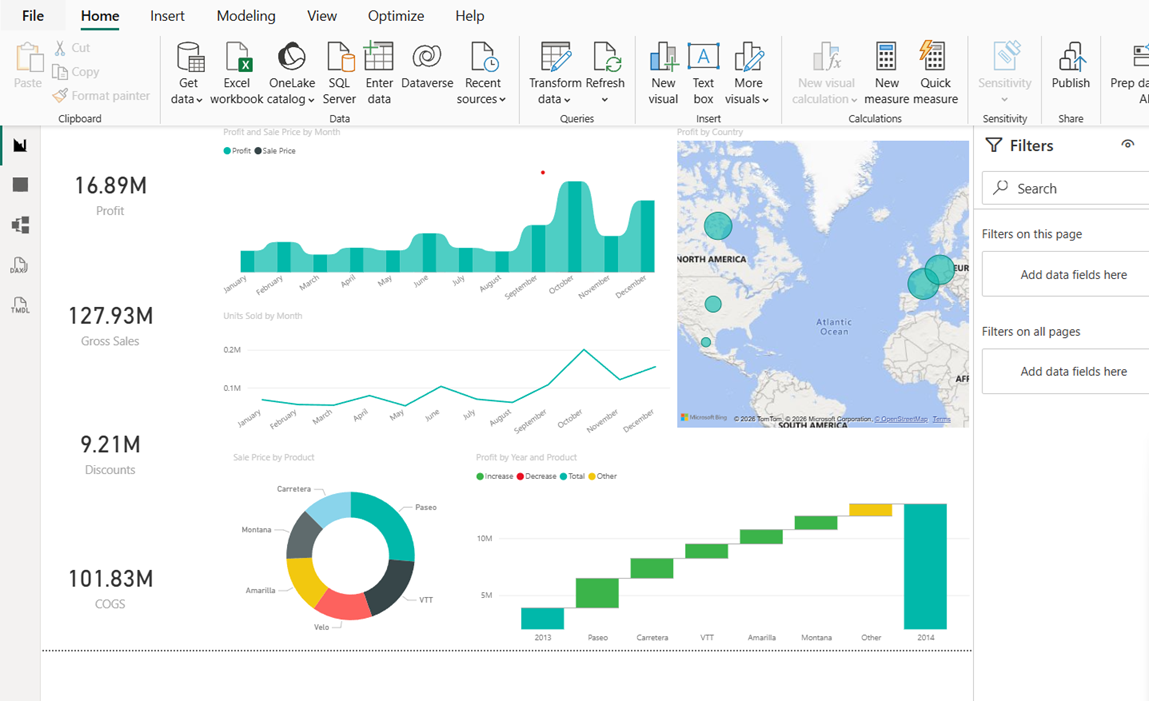

The dashboard page shown, as its layout file describes it:
{"tool":"powerbi","page":{"name":"Page 1","canvas":[1280,720],"ordinal":0},"visuals":[{"type":"map","fields":{"Category":["financials.Country"],"Size":["Sum(financials.Profit)"]},"box":[869.2,0,410.8,420],"z":0},{"type":"lineChart","fields":{"Category":["financials.Date.Variation.Date Hierarchy.Month"],"Y":["Sum(financials.Units Sold)"]},"box":[246.2,252.3,623.1,184.6],"z":1000},{"type":"card","fields":{"Values":["Sum(financials.Profit)"]},"box":[0,0,190.8,180],"z":2000},{"type":"card","fields":{"Values":["Sum(financials.Gross Sales)"]},"box":[0,180,190.8,180],"z":3000},{"type":"card","fields":{"Values":["Sum(financials.Discounts)"]},"box":[0,360,190.8,173.8],"z":4000},{"type":"card","fields":{"Values":["f_COGS"]},"box":[0,540,190.8,180],"z":5000},{"type":"ribbonChart","fields":{"Y":["Sum(financials.Profit)","Sum(financials.Sale Price)"],"Category":["financials.Date.Variation.Date Hierarchy.Month"]},"box":[246.2,0,623.1,252.3],"z":6000},{"type":"donutChart","fields":{"Category":["financials.Product"],"Y":["Sum(financials.Sale Price)"]},"box":[260,447.7,332.3,272.3],"z":7000},{"type":"waterfallChart","fields":{"Y":["Sum(financials.Profit)"],"Breakdown":["financials.Product"],"Category":["financials.Date.Variation.Date Hierarchy.Year"]},"box":[592.3,447.7,687.7,272.3],"z":8000}]}

Visuals, with their boxes on the page's 1280x720 design canvas (x1, y1, x2, y2). These are canvas units, not pixel positions in the 1152x701 screenshot, which may show the page scaled, cropped or inside an application window:
map - financials.Country x Sum(financials.Profit): <box>869,0,1280,420</box>
lineChart - financials.Date.Variation.Date Hierarchy.Month x Sum(financials.Units Sold): <box>246,252,869,437</box>
card - Sum(financials.Profit): <box>0,0,191,180</box>
card - Sum(financials.Gross Sales): <box>0,180,191,360</box>
card - Sum(financials.Discounts): <box>0,360,191,534</box>
card - f_COGS: <box>0,540,191,720</box>
ribbonChart - Sum(financials.Profit) x Sum(financials.Sale Price): <box>246,0,869,252</box>
donutChart - financials.Product x Sum(financials.Sale Price): <box>260,448,592,720</box>
waterfallChart - Sum(financials.Profit) x financials.Product: <box>592,448,1280,720</box>
